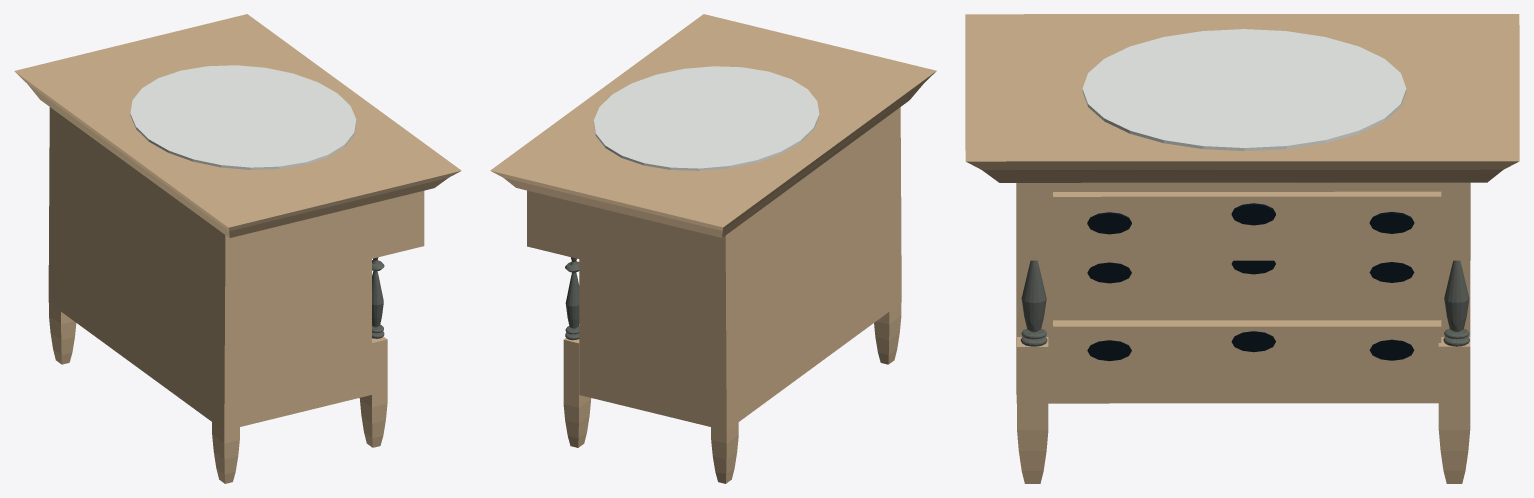
File: bieder_chair.glb
The picture shows the model from 3 angles, left to right: view 1: azimuth 30°, elevation 25°; view 2: azimuth 150°, elevation 25°; view 3: azimuth 270°, elevation 25°; orthographic projection. The views are drawn at different scales.
Visible parts, largest first — view 1: ARMAZON-L, ARMAZON01-, ADREES-M, COLUMNA-L; view 2: ARMAZON-L, ARMAZON01-, ADREES-M, COLUMNA-L0; view 3: ARMAZON-L, ARMAZON01-, ADREES-M, COLUMNA-L, COLUMNA-L0, Cylinder07, Cylinder08, Cylinder09, Cylinder01, Cylinder04, Cylinder06, Cylinder02 (+1 smaller).
Boxes of the visible parts, x1=… form: ARMAZON-L: x1=48, y1=107, x2=424, y2=483; ARMAZON01-: x1=14, y1=14, x2=461, y2=237; ADREES-M: x1=130, y1=65, x2=356, y2=169; COLUMNA-L: x1=372, y1=257, x2=384, y2=338; ARMAZON-L: x1=527, y1=107, x2=901, y2=483; ARMAZON01-: x1=490, y1=14, x2=936, y2=237; ADREES-M: x1=593, y1=66, x2=819, y2=170; COLUMNA-L0: x1=565, y1=257, x2=579, y2=340; ARMAZON-L: x1=1016, y1=182, x2=1470, y2=483; ARMAZON01-: x1=965, y1=14, x2=1519, y2=182; ADREES-M: x1=1082, y1=29, x2=1406, y2=150; COLUMNA-L: x1=1020, y1=260, x2=1047, y2=346; COLUMNA-L0: x1=1443, y1=260, x2=1469, y2=346; Cylinder07: x1=1087, y1=212, x2=1131, y2=234; Cylinder08: x1=1231, y1=203, x2=1275, y2=225; Cylinder09: x1=1369, y1=212, x2=1414, y2=233; Cylinder01: x1=1369, y1=339, x2=1414, y2=360; Cylinder04: x1=1087, y1=262, x2=1131, y2=283; Cylinder06: x1=1369, y1=262, x2=1414, y2=282; Cylinder02: x1=1231, y1=331, x2=1275, y2=352.
Size of the model in its own units: 2239 by 2566 by 3557.
